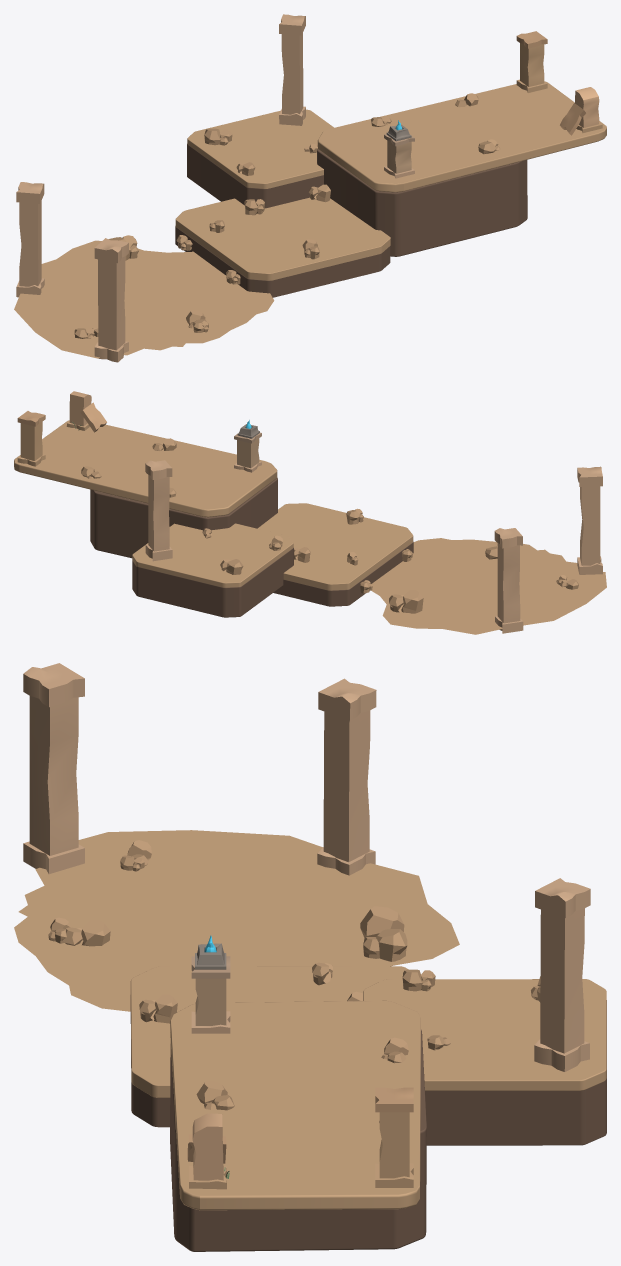
File: level_1_blocK_1v2.gltf
3 views of the same model, one above another, from view 1: azimuth 30°, elevation 25°; view 2: azimuth 150°, elevation 25°; view 3: azimuth 270°, elevation 25° (orthographic). The views are drawn at different scales.
Visible parts, largest first — view 1: Shape 16, plat3, Shape 7, plat1, Cube (×6), plat2, Shape 2 (×2), Cube 2 (×3); view 2: Shape 16, plat3, plat1, Cube (×6), Shape 2 (×2), plat2, Shape 7, Cube 2 (×3), menhir_mini, Cube 6; view 3: Shape 16, plat3, Cube (×6), plat2, Shape 7, Shape 2 (×2), plat1, Cube 2 (×4), Cube 3 (×3), menhir_mini (×2).
Boxes of the visible parts, bbox=[...] form: Shape 16: bbox=[14, 240, 274, 358]; plat3: bbox=[317, 81, 606, 192]; Shape 7: bbox=[317, 149, 527, 256]; plat1: bbox=[175, 197, 390, 280]; Cube (×6): bbox=[19, 33, 599, 350]; plat2: bbox=[187, 109, 333, 188]; Shape 2 (×2): bbox=[175, 144, 390, 297]; Cube 2 (×3): bbox=[16, 14, 305, 263]; Shape 16: bbox=[371, 538, 606, 634]; plat3: bbox=[14, 420, 277, 517]; plat1: bbox=[257, 503, 413, 590]; Cube (×6): bbox=[20, 391, 600, 623]; Shape 2 (×2): bbox=[132, 542, 413, 617]; plat2: bbox=[132, 523, 293, 587]; Shape 7: bbox=[90, 478, 277, 558]; Cube 2 (×3): bbox=[145, 460, 602, 548]; menhir_mini: bbox=[401, 590, 423, 613]; Cube 6: bbox=[80, 402, 106, 432]; Shape 16: bbox=[14, 830, 459, 1011]; plat3: bbox=[170, 1000, 420, 1210]; Cube (×6): bbox=[29, 696, 584, 1180]; plat2: bbox=[363, 979, 606, 1090]; Shape 7: bbox=[170, 1029, 426, 1251]; Shape 2 (×2): bbox=[130, 995, 606, 1145]; plat1: bbox=[130, 966, 408, 1097]; Cube 2 (×4): bbox=[23, 663, 590, 1112]; Cube 3 (×3): bbox=[23, 841, 589, 1071]; menhir_mini (×2): bbox=[360, 906, 407, 966].
Size of what is drawn, in the model's own units: 15.9 by 4.13 by 8.34.
